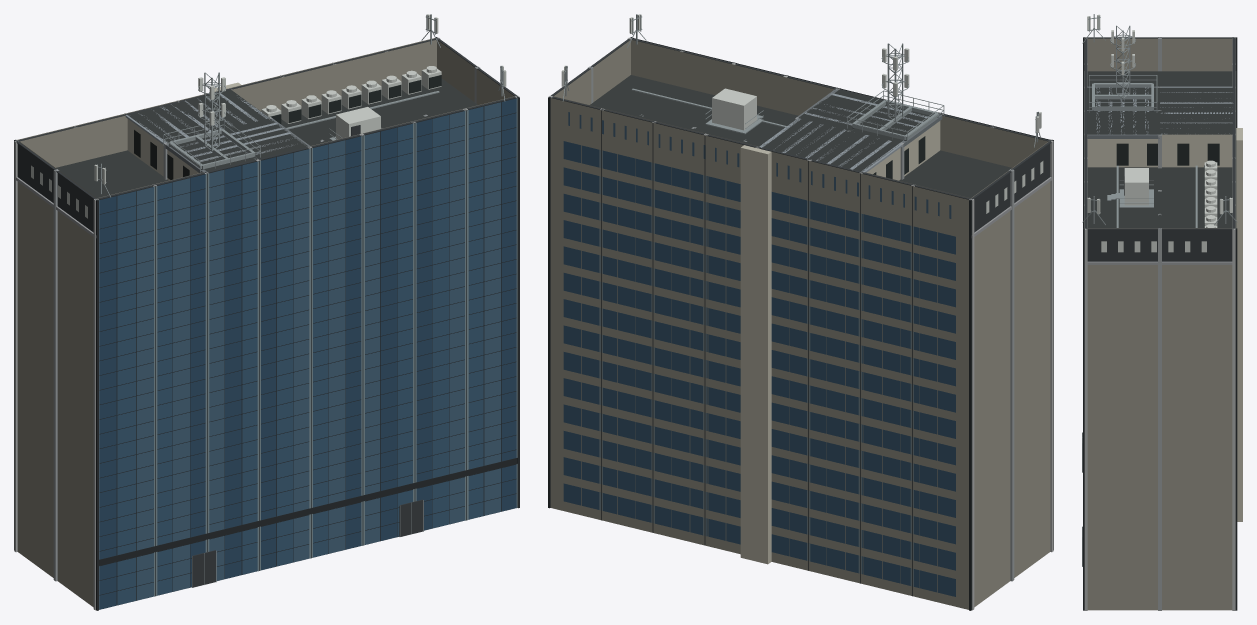
The model's file is 7078-river-house-building.obj.
3 renders of one model, left to right at view 1: azimuth 30°, elevation 25°; view 2: azimuth 150°, elevation 25°; view 3: azimuth 270°, elevation 25°, orthographic. The views are drawn at different scales.
Parts seen in each view (by area): view 1: street_glazing, end_concrete_0, street_curtain_wall_frame, street_columns_seen_through_glass, roof_inner_perimeter, main_roof_surface, plant_room_roof, primary_curtain_wall_mullions, corner_mullions, street_fascia, roof_coping, end_upper_band_0 (+8 smaller); view 2: rear_window_bands, rear_cladding, end_concrete_0, rear_service_spine, roof_inner_perimeter, main_roof_surface, plant_room_roof, rear_columns_seen_through_glass, rear_primary_column_axis_joints, corner_mullions, end_upper_band_0, roof_coping (+8 smaller); view 3: end_concrete_44.65, main_roof_surface, plant_room_roof, roof_inner_end, end_upper_band_44.65, plant_room_enclosure, rear_service_spine, corner_mullions, roof_coping, facade_column_to_ground_44.65_0, facade_column_to_ground_44.65_14.6, central_column_to_ground_44.65 (+11 smaller).
Boxes of the visible parts, x1,y1,x2,y2 form: street_glazing: [99, 98, 516, 609]; end_concrete_0: [17, 182, 93, 607]; street_curtain_wall_frame: [99, 98, 516, 608]; street_columns_seen_through_glass: [99, 98, 517, 609]; roof_inner_perimeter: [20, 40, 514, 198]; main_roof_surface: [56, 78, 477, 197]; plant_room_roof: [128, 89, 308, 171]; primary_curtain_wall_mullions: [155, 110, 466, 596]; corner_mullions: [14, 37, 519, 610]; street_fascia: [99, 458, 517, 565]; roof_coping: [16, 38, 517, 199]; end_upper_band_0: [17, 144, 93, 232]; rear_window_bands: [563, 141, 955, 596]; rear_cladding: [550, 98, 968, 609]; end_concrete_0: [974, 182, 1050, 607]; rear_service_spine: [740, 145, 771, 564]; roof_inner_perimeter: [553, 40, 1047, 198]; main_roof_surface: [590, 75, 1011, 197]; plant_room_roof: [759, 89, 939, 171]; rear_columns_seen_through_glass: [599, 150, 913, 586]; rear_primary_column_axis_joints: [601, 110, 912, 596]; corner_mullions: [548, 37, 1053, 610]; end_upper_band_0: [974, 144, 1050, 232]; roof_coping: [550, 38, 1051, 199]; end_concrete_44.65: [1087, 265, 1232, 610]; main_roof_surface: [1084, 71, 1236, 228]; plant_room_roof: [1087, 87, 1233, 134]; roof_inner_end: [1087, 38, 1232, 228]; end_upper_band_44.65: [1087, 230, 1232, 261]; plant_room_enclosure: [1087, 134, 1232, 167]; rear_service_spine: [1236, 128, 1242, 521]; corner_mullions: [1083, 37, 1237, 610]; roof_coping: [1085, 37, 1235, 229]; facade_column_to_ground_44.65_0: [1084, 262, 1087, 610]; facade_column_to_ground_44.65_14.6: [1232, 262, 1235, 610]; central_column_to_ground_44.65: [1158, 262, 1161, 610].
Bounding box in the file's own units: 45.03 × 49.42 × 15.88.
